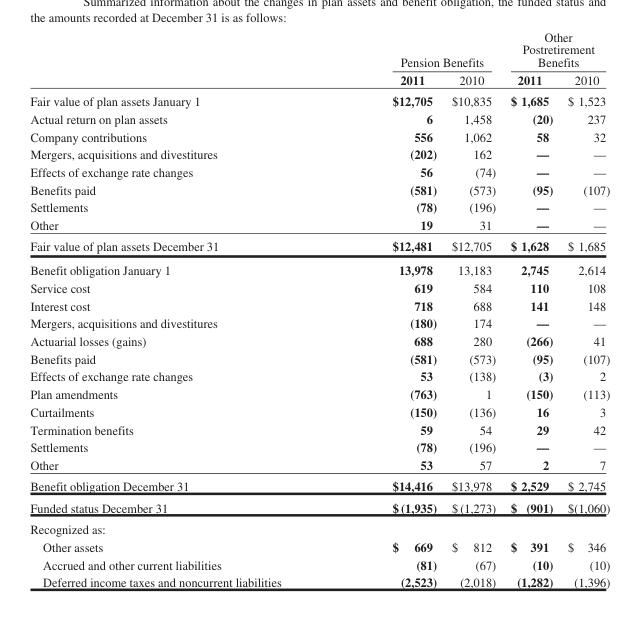table: (29, 29, 609, 589)
table column: (29, 29, 336, 589), (336, 29, 443, 589), (443, 29, 502, 589), (502, 29, 559, 589), (559, 29, 609, 589)
table column header: (29, 29, 609, 90)
table projected row header: (29, 518, 609, 537)
table row: (29, 29, 609, 70), (29, 235, 609, 257), (29, 496, 609, 518), (29, 257, 609, 278), (29, 475, 609, 496), (29, 70, 609, 90), (29, 215, 609, 235), (29, 455, 609, 475), (29, 90, 609, 109), (29, 518, 609, 537), (29, 109, 609, 127), (29, 144, 609, 162), (29, 162, 609, 180), (29, 197, 609, 215), (29, 278, 609, 296), (29, 296, 609, 314), (29, 331, 609, 349), (29, 349, 609, 367), (29, 384, 609, 402), (29, 402, 609, 420), (29, 437, 609, 455), (29, 537, 609, 555), (29, 127, 609, 144), (29, 180, 609, 197), (29, 314, 609, 331), (29, 367, 609, 384), (29, 420, 609, 437), (29, 555, 609, 572), (29, 572, 609, 589)
table spanning cell: (336, 29, 502, 70), (502, 29, 609, 70)
